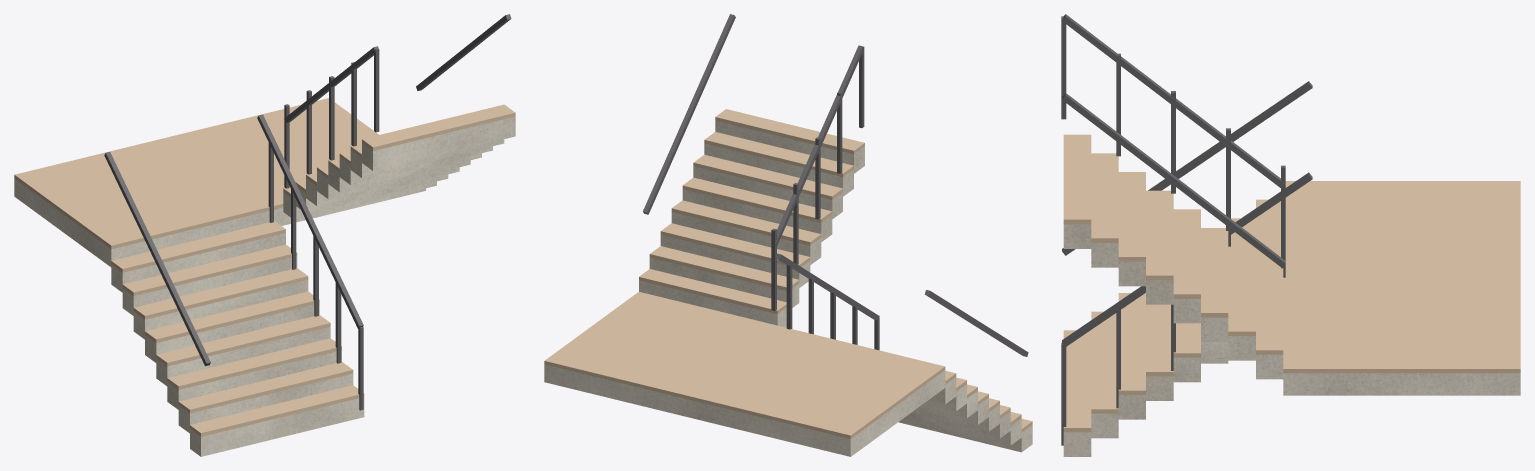
Rendered from stairs_u_3m_192_168.glb.
The picture shows the model from 3 angles, left to right: view 1: azimuth 30°, elevation 25°; view 2: azimuth 150°, elevation 25°; view 3: azimuth 270°, elevation 25°; orthographic projection. The views are drawn at different scales.
Visible parts, largest first — view 1: stairs_u_3m_192_168_floor, stairs_u_3m_192_168_plaster, stairs_u_3m_192_168_iron; view 2: stairs_u_3m_192_168_floor, stairs_u_3m_192_168_plaster, stairs_u_3m_192_168_iron; view 3: stairs_u_3m_192_168_floor, stairs_u_3m_192_168_plaster, stairs_u_3m_192_168_iron.
Boxes of the visible parts, bbox=[...] form: stairs_u_3m_192_168_floor: bbox=[14, 98, 515, 436]; stairs_u_3m_192_168_plaster: bbox=[14, 116, 515, 456]; stairs_u_3m_192_168_iron: bbox=[104, 14, 511, 410]; stairs_u_3m_192_168_floor: bbox=[544, 109, 1032, 438]; stairs_u_3m_192_168_plaster: bbox=[544, 120, 1032, 456]; stairs_u_3m_192_168_iron: bbox=[643, 14, 1028, 356]; stairs_u_3m_192_168_floor: bbox=[1063, 134, 1520, 432]; stairs_u_3m_192_168_plaster: bbox=[1063, 224, 1520, 456]; stairs_u_3m_192_168_iron: bbox=[1061, 14, 1312, 445].
Size of the model in its own units: 3.6 by 4.01 by 3.72.
3 materials, 1 textured.
